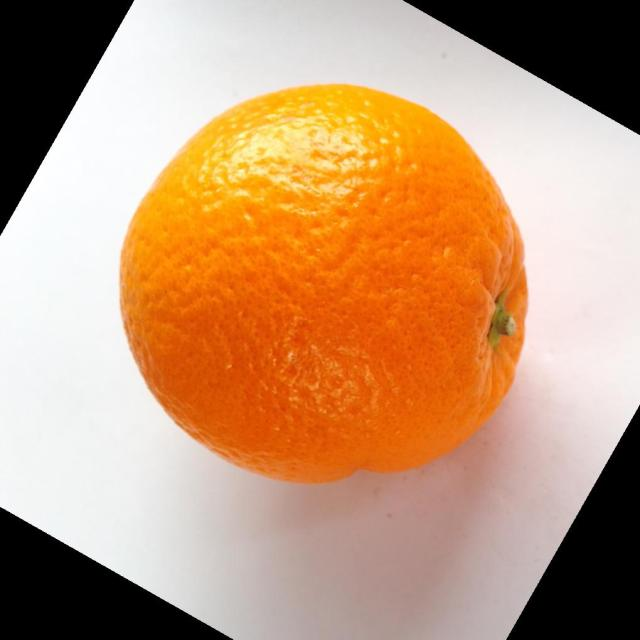fresh orange: (117, 82, 529, 485)
